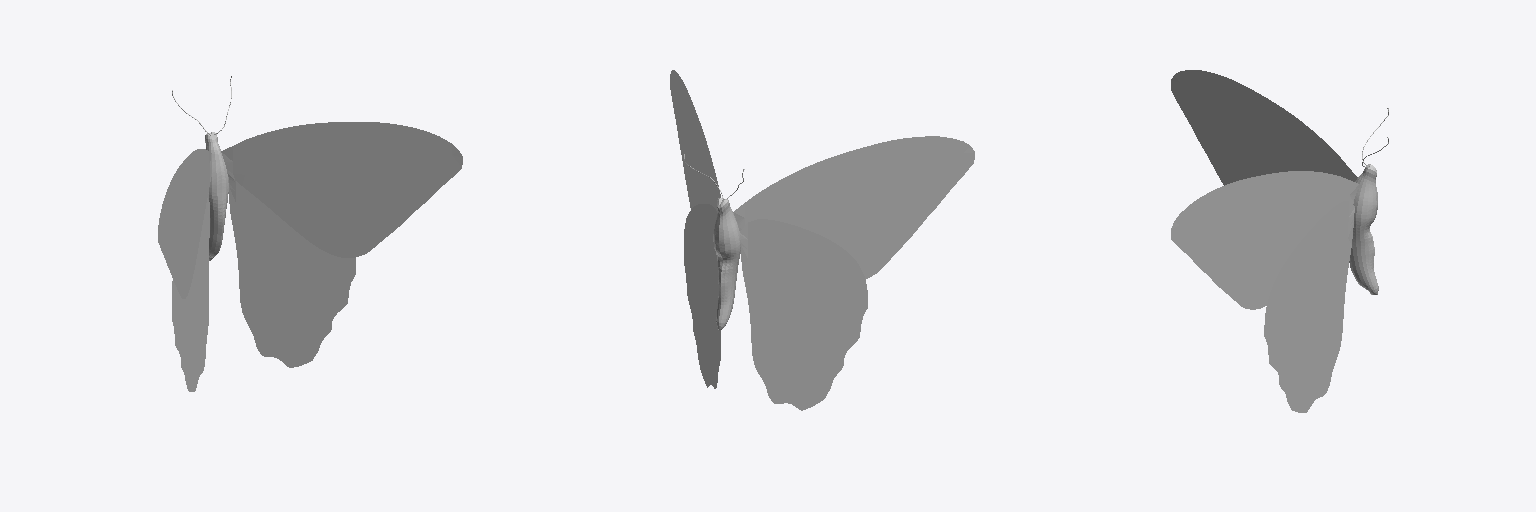
File: 5000cnt_butterfly.obj
3 views of the same model, side by side, from view 1: azimuth 30°, elevation 25°; view 2: azimuth 150°, elevation 25°; view 3: azimuth 270°, elevation 25° (orthographic).
Visible parts, largest first — view 1: bottomWings polySurface21; view 2: bottomWings polySurface21; view 3: bottomWings polySurface21.
Part boxes in pixels (bbox=[...]): bottomWings polySurface21: bbox=[158, 76, 462, 391]; bottomWings polySurface21: bbox=[670, 70, 974, 410]; bottomWings polySurface21: bbox=[1171, 70, 1388, 412].
Bounding box in the file's own units: 19.84 × 16.6 × 12.28.